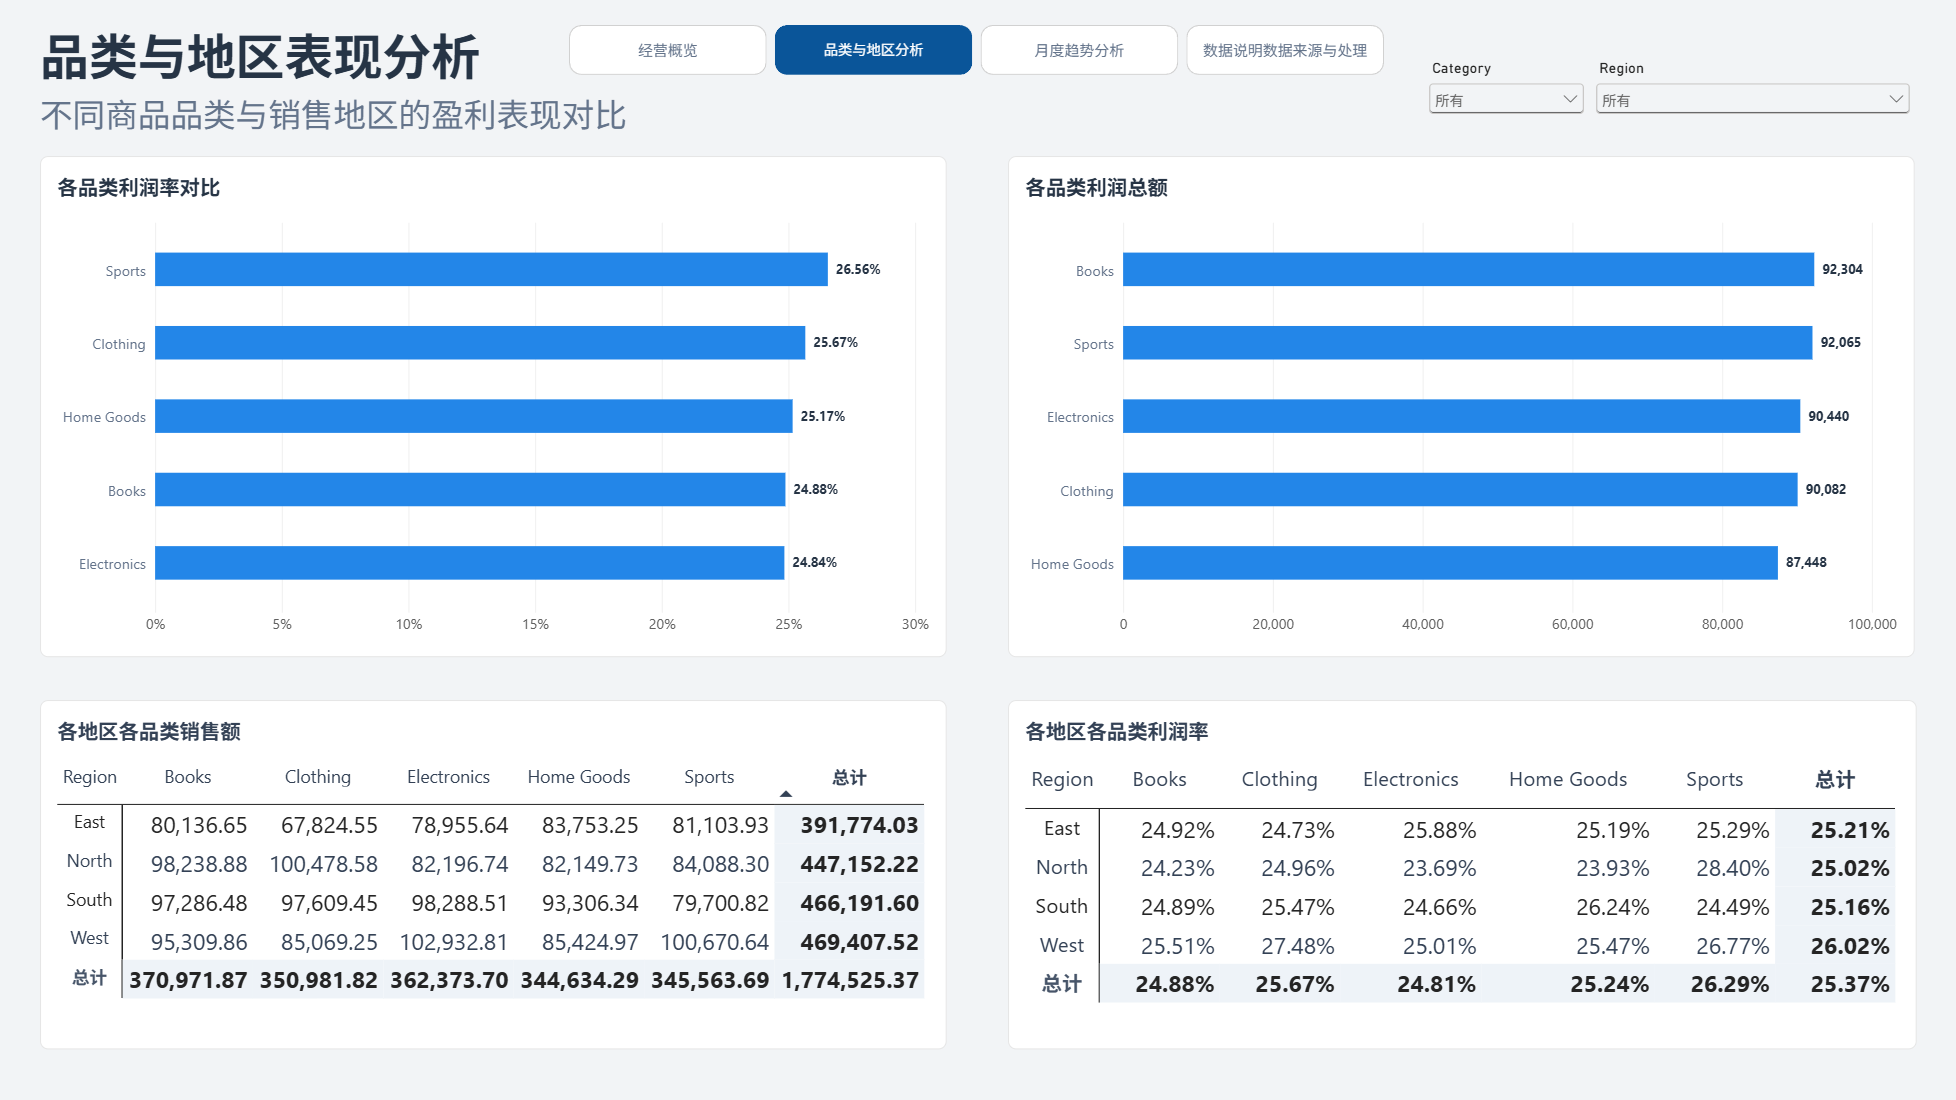

This screenshot's page, from the dashboard's own definition file:
{"tool":"powerbi","page":{"name":"品类与地区分析","canvas":[1920,1080],"ordinal":1},"visuals":[{"type":"clusteredBarChart","title":"各品类利润率对比","fields":{"Category":["sales_analysis retail_sales_clean.Category"],"Y":["sales_analysis retail_sales_clean.整体利润率"]},"box":[39.3,153.1,890,491.8],"z":0},{"type":"clusteredBarChart","title":"各品类利润总额","fields":{"Category":["sales_analysis retail_sales_clean.Category"],"Y":["sales_analysis retail_sales_clean.总利润"]},"box":[989.4,153.1,890,491.8],"z":1000},{"type":"pivotTable","title":"各地区各品类销售额","fields":{"Columns":["sales_analysis retail_sales_clean.Category"],"Rows":["sales_analysis retail_sales_clean.Region"],"Values":["sales_analysis retail_sales_clean.总销售额"]},"box":[39.3,687.1,890.3,342.6],"z":2000},{"type":"pivotTable","title":"各地区各品类利润率","fields":{"Columns":["sales_analysis retail_sales_clean.Category"],"Rows":["sales_analysis retail_sales_clean.Region"],"Values":["sales_analysis retail_sales_clean.整体利润率"]},"box":[989.4,687.1,892.3,342.6],"z":3000},{"type":"textbox","box":[39.3,17.7,591.9,135.5],"z":4000},{"type":"slicer","fields":{"Values":["sales_analysis retail_sales_clean.Category"]},"box":[1397.5,58.4,162,78.5],"z":5000},{"type":"slicer","fields":{"Values":["sales_analysis retail_sales_clean.Region"]},"box":[1562,58.4,318,150],"z":6000},{"type":"pageNavigator","box":[558,24.5,803.9,49.1],"z":7000}]}

Visuals, with their boxes in screenshot pixels (x1, y1, x2, y2), scaled from the page's 1920x1080 canvas onto the 1956x1100 screenshot:
"各品类利润率对比" clusteredBarChart: locate(40, 156, 947, 657)
"各品类利润总额" clusteredBarChart: locate(1008, 156, 1915, 657)
"各地区各品类销售额" pivotTable: locate(40, 700, 947, 1049)
"各地区各品类利润率" pivotTable: locate(1008, 700, 1917, 1049)
textbox: locate(40, 18, 643, 156)
slicer - sales_analysis retail_sales_clean.Category: locate(1424, 59, 1589, 139)
slicer - sales_analysis retail_sales_clean.Region: locate(1591, 59, 1915, 212)
pageNavigator: locate(568, 25, 1387, 75)
